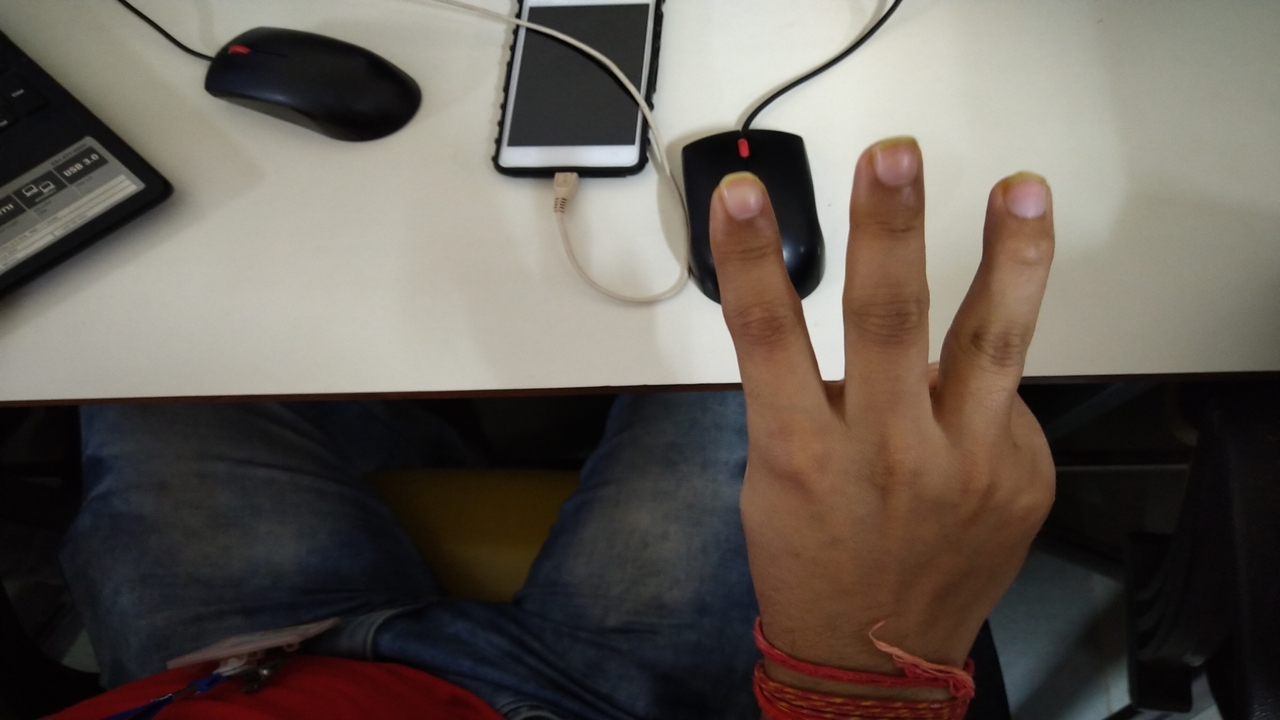fingertip: (848, 134, 936, 206), (986, 166, 1064, 238), (708, 172, 774, 242)
